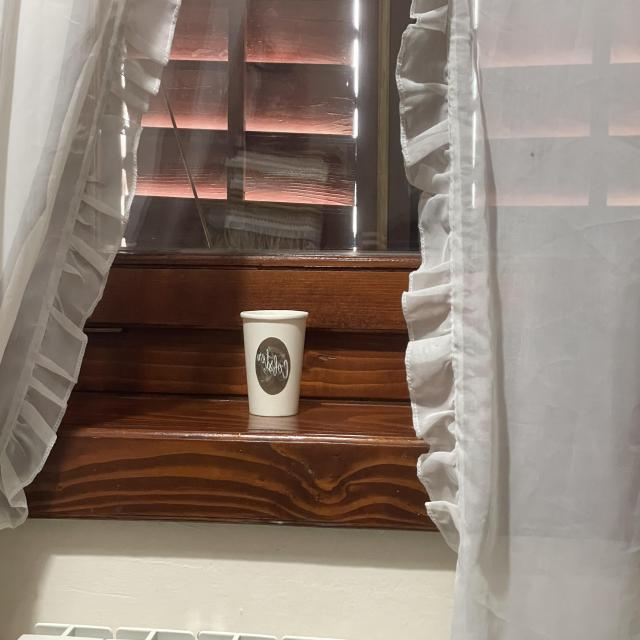small: (238, 303, 310, 421)
